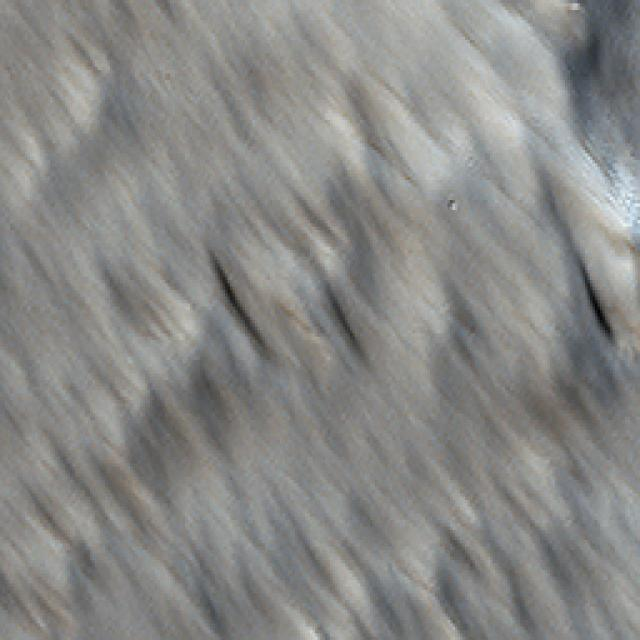Crater: (345, 0, 640, 547)
